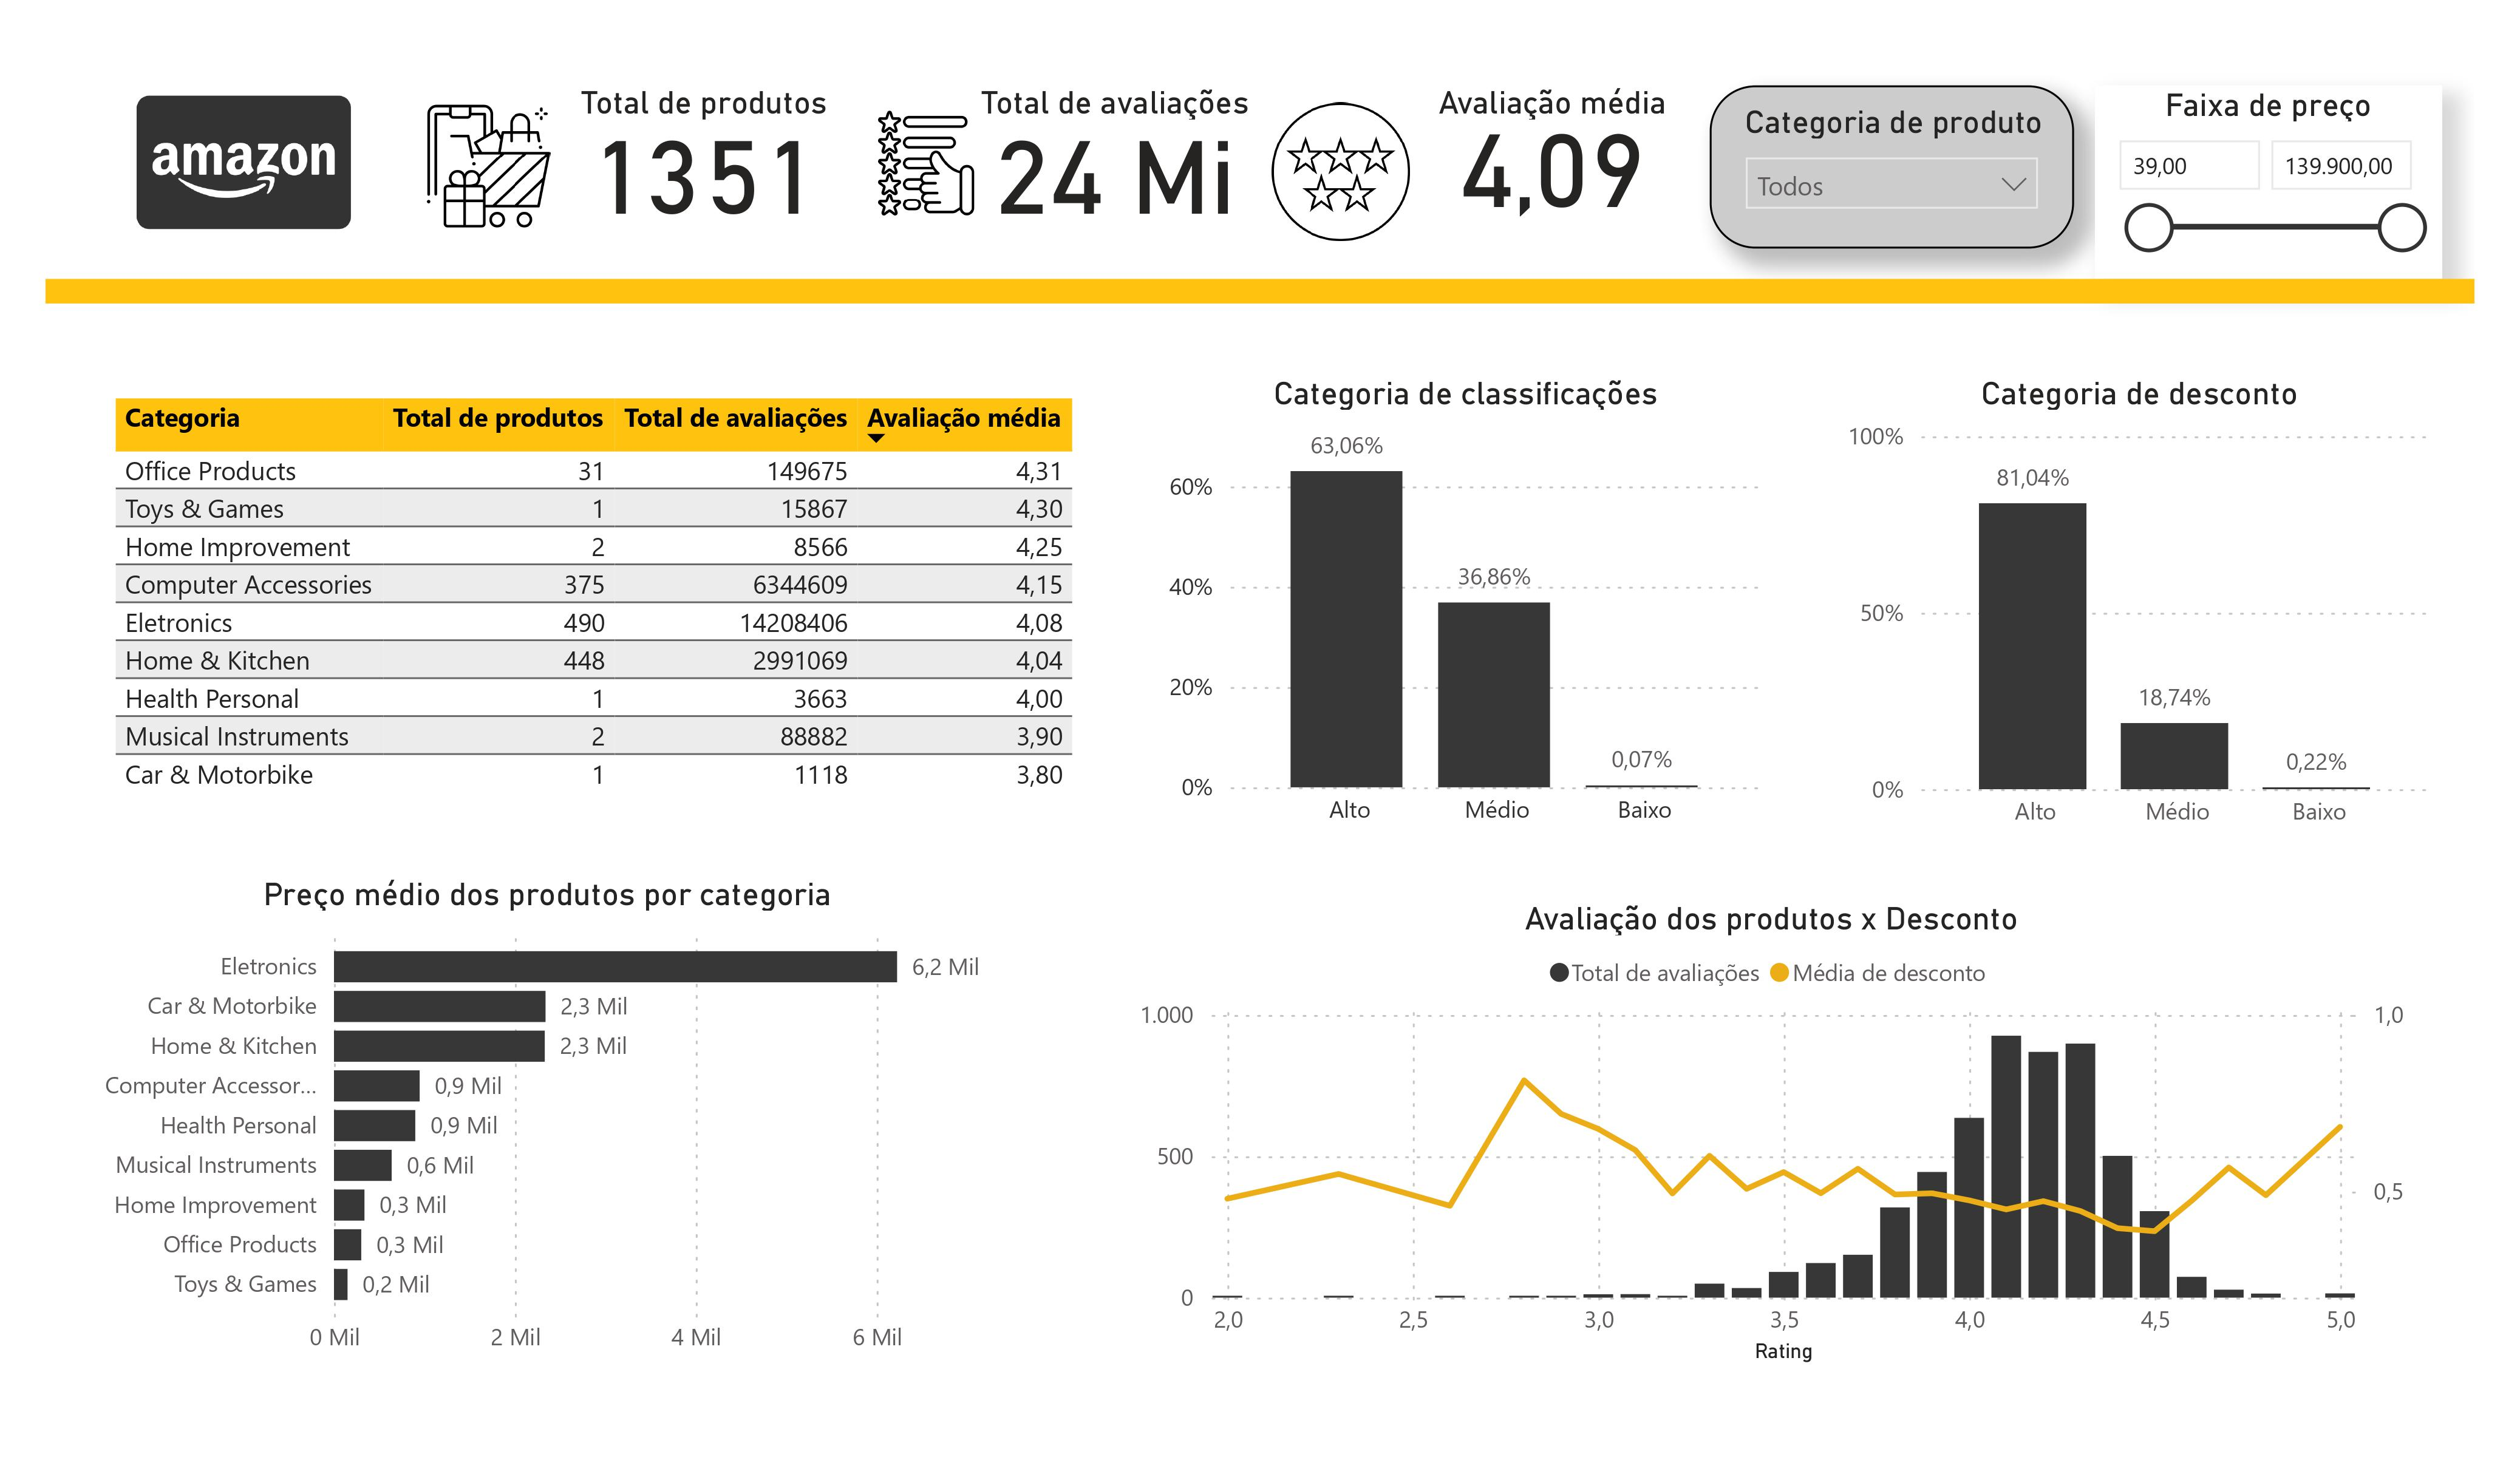

What the dashboard file says about the page in this screenshot:
{"tool":"powerbi","page":{"name":"Página 1","canvas":[1280,720],"ordinal":0},"visuals":[{"type":"card","title":"Total de produtos","fields":{"Values":["CountNonNull(amazon_final.product_id)"]},"box":[264.9,26.3,140.5,80.5],"z":0},{"type":"card","title":"Total de avaliações","fields":{"Values":["Sum(amazon_final.rating_count)"]},"box":[485.9,20.5,155.1,86.3],"z":1000},{"type":"card","title":"Avaliação média","fields":{"Values":["Avg(amazon_final.rating)"]},"box":[724.4,20.5,140.5,80.5],"z":2000},{"type":"slicer","title":"Categoria de produto","fields":{"Values":["amazon_final.category"]},"box":[876.6,27.8,191.7,79],"z":3000},{"type":"slicer","title":"Faixa de preço","fields":{"Values":["amazon_final.actual_price"]},"box":[1080,26.3,182.9,90.7],"z":4000},{"type":"columnChart","title":"Categoria de avaliações (rating)","fields":{"Category":["amazon_final.rating_seg"],"Y":["Count(amazon_final.product_id)"]},"box":[586.8,172.7,323.4,248.8],"z":5000},{"type":"columnChart","title":"Categoria de desconto","fields":{"Category":["amazon_final.discount_seg"],"Y":["Sum(amazon_final.discount_percentage)"]},"box":[944,173,319.2,248.6],"z":6000},{"type":"tableEx","fields":{"Values":["amazon_final.category","CountNonNull(amazon_final.category)","Sum(amazon_final.rating_count)","Avg(amazon_final.rating)"]},"box":[30.7,181.5,515.1,229.8],"z":7000},{"type":"clusteredBarChart","title":"Preço médio dos produtos por categoria","fields":{"Category":["amazon_final.category"],"Y":["Avg(amazon_final.discounted_price)"]},"box":[13.4,436.7,502.3,262],"z":8000},{"type":"lineClusteredColumnComboChart","title":"Avaliação dos produtos x Desconto","fields":{"Category":["amazon_final.rating"],"Y":["Sum(amazon_final.rating)"],"Y2":["Avg(amazon_final.discount_percentage)"]},"box":[571.1,450.2,677,248.6],"z":9000},{"type":"image","box":[430.2,22,67.3,79],"z":10000},{"type":"image","box":[641,24.9,83.4,83.4],"z":11000},{"type":"image","box":[191.7,26.3,83.4,74.6],"z":12000},{"type":"image","box":[0,0,209.3,136.1],"z":13000},{"type":"shape","box":[0,122.9,1280.5,13.2],"z":14000}]}

Visuals, with their boxes in screenshot pixels (x1, y1, x2, y2):
"Total de produtos" card: 548/95/815/248
"Total de avaliações" card: 967/84/1262/248
"Avaliação média" card: 1420/84/1687/237
"Categoria de produto" slicer: 1709/98/2072/248
"Faixa de preço" slicer: 2095/95/2442/268
"Categoria de avaliações (rating)" columnChart: 1159/373/1773/845
"Categoria de desconto" columnChart: 1837/374/2442/845
tableEx - amazon_final.category x CountNonNull(amazon_final.category): 104/390/1081/826
"Preço médio dos produtos por categoria" clusteredBarChart: 71/874/1024/1371
"Avaliação dos produtos x Desconto" lineClusteredColumnComboChart: 1129/900/2414/1371
image: 862/87/990/237
image: 1262/93/1420/251
image: 409/95/568/237
image: 46/46/443/304
shape: 46/279/2474/304
